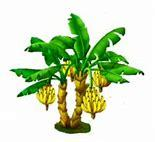banana: (83, 89, 108, 118), (38, 86, 56, 104), (95, 71, 111, 90)
